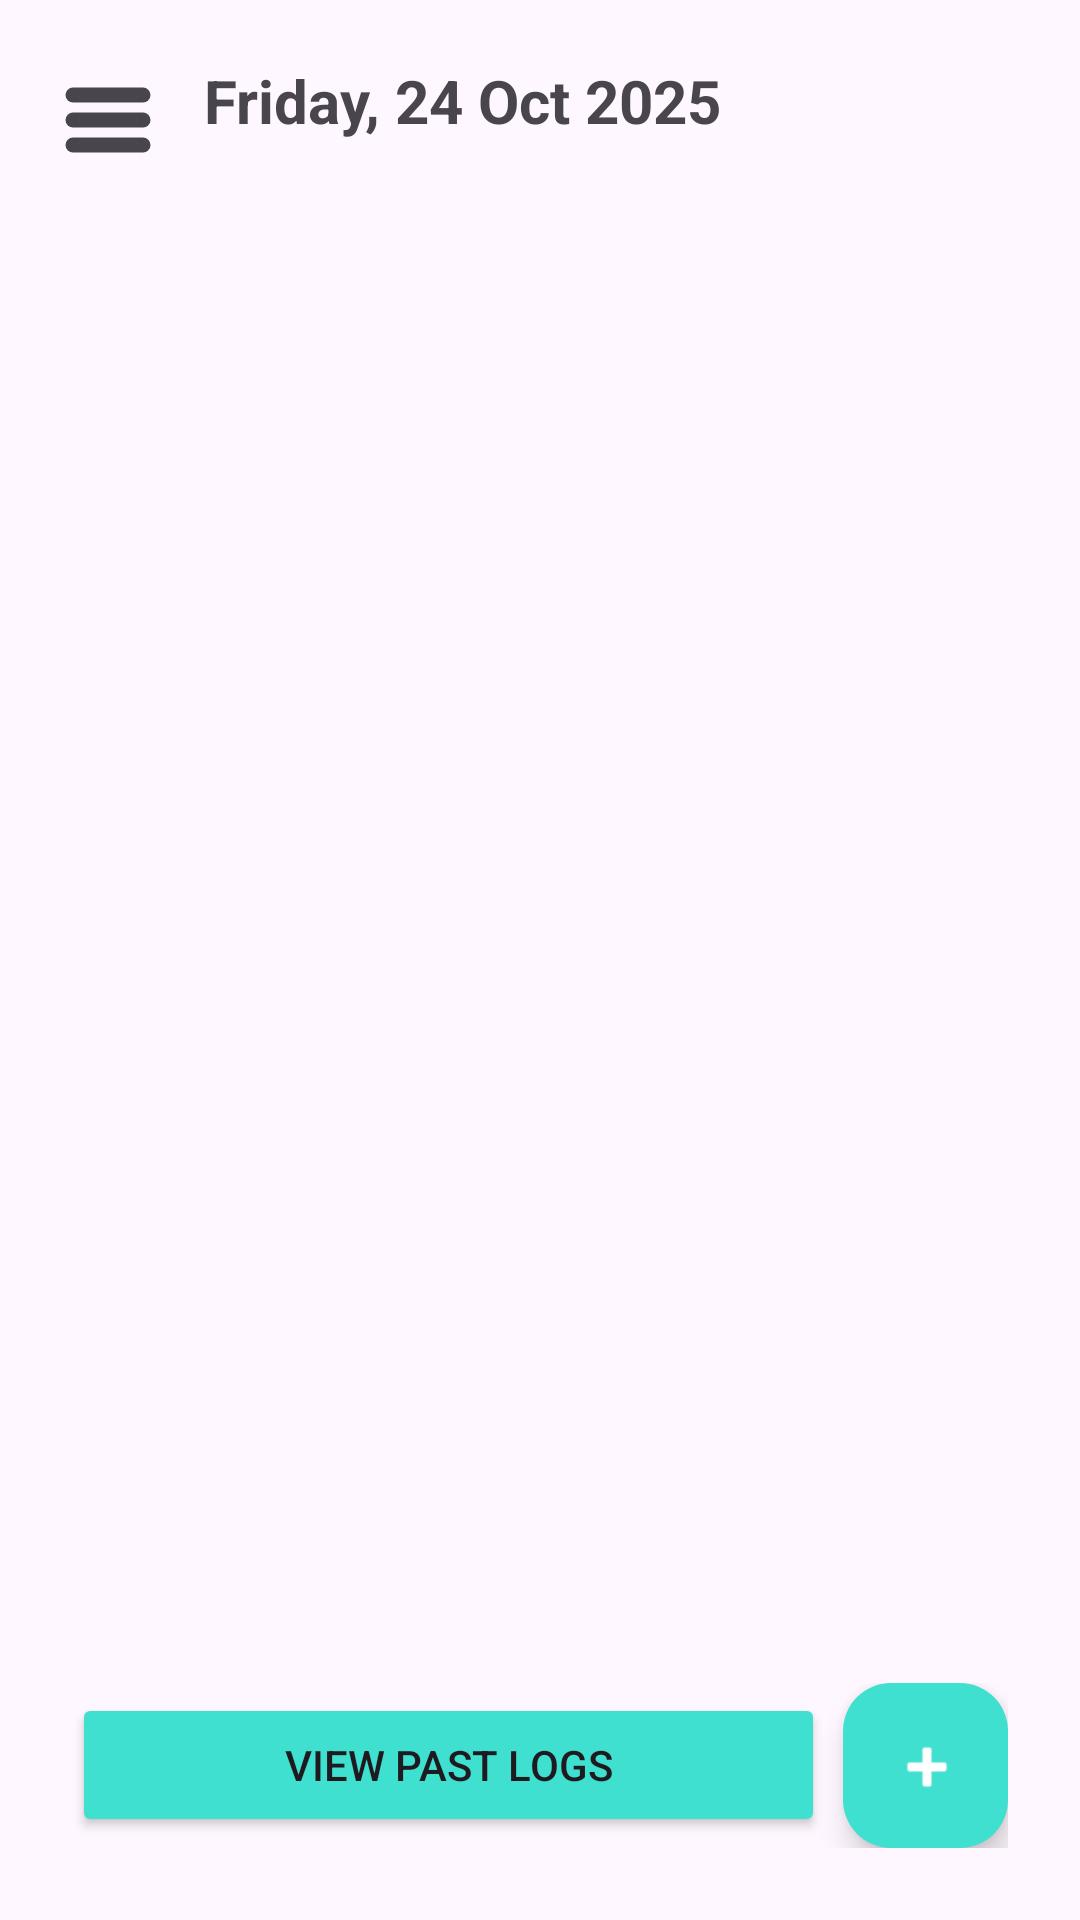

Icons on this 1080x1920 Android screen, each with its box as (x1, y1, x2, y2):
add: (843, 1683, 1008, 1848)
Menu: (65, 87, 151, 153)
